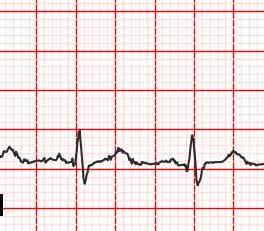LVH: (104, 143, 138, 171), (220, 145, 254, 168)
Poor R Progression: (180, 132, 200, 169), (72, 125, 86, 171)
ST Depression: (180, 161, 208, 188), (73, 153, 93, 186)
